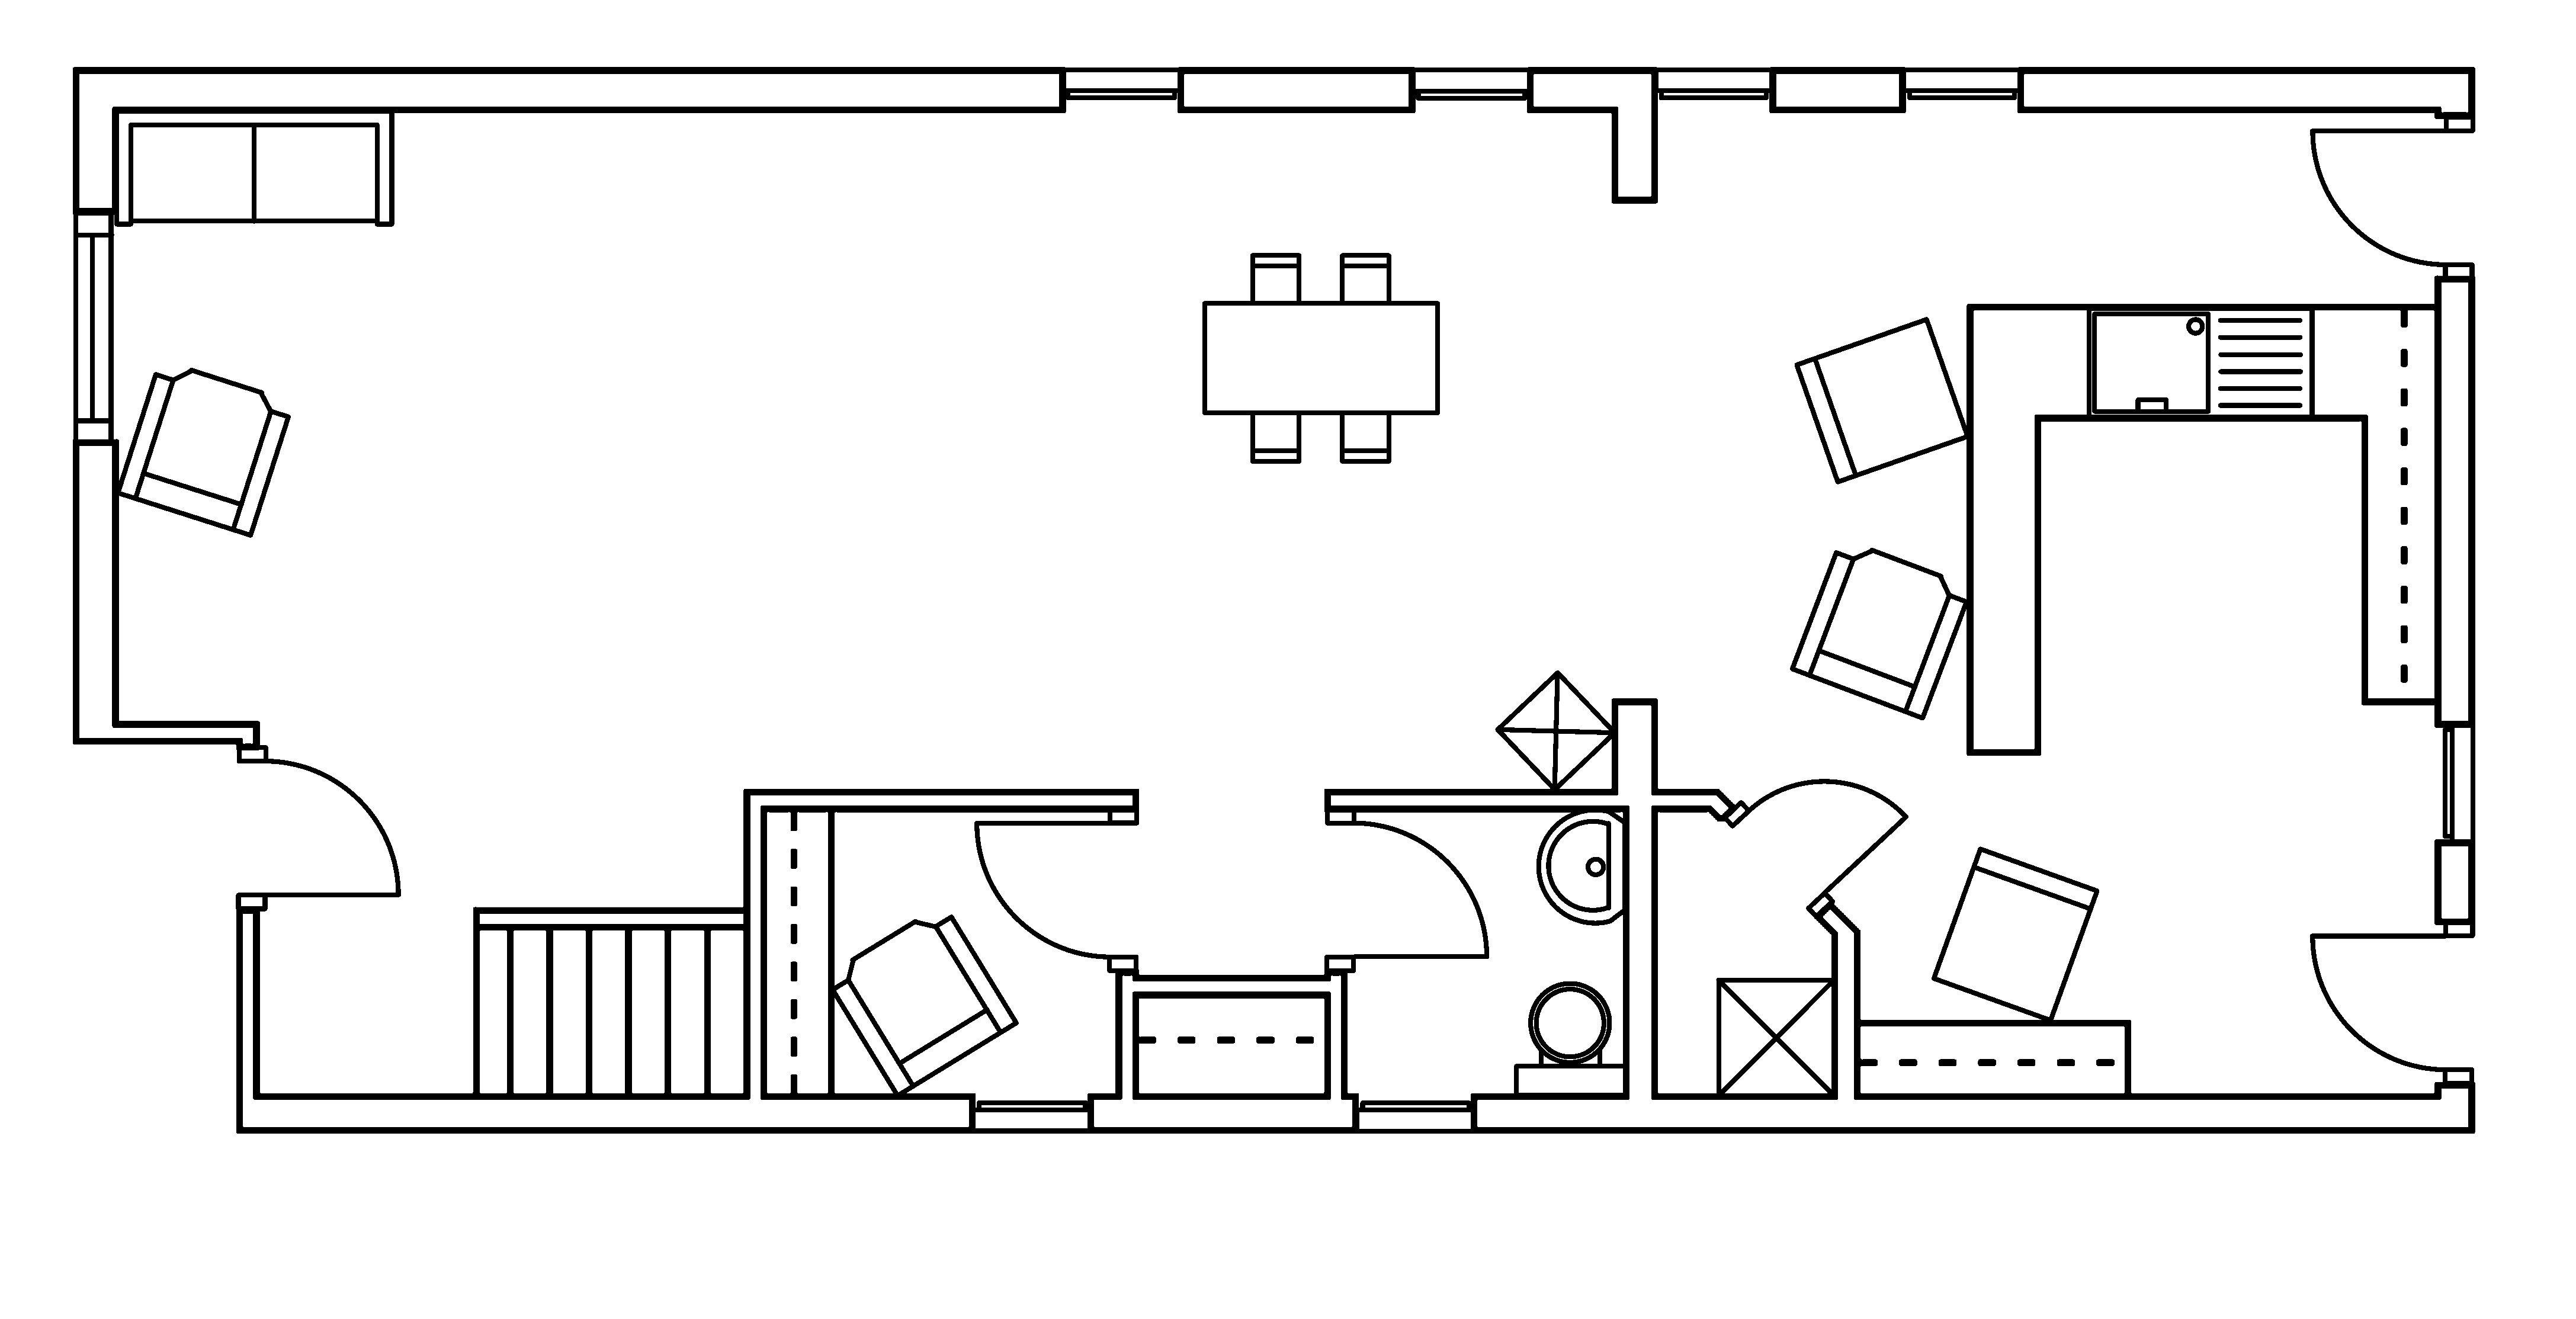armchair: (829, 914, 1019, 1099), (1789, 547, 1969, 720), (114, 367, 291, 538)
coffee_table: (1493, 670, 1618, 792), (1715, 976, 1836, 1099)
dining_table: (1201, 252, 1439, 464)
large_sink: (1513, 981, 1628, 1097)
large_sofa: (113, 108, 395, 227)
sink: (2085, 305, 2314, 421)
small_sink: (1535, 808, 1628, 925)
small_sofa: (1792, 316, 1971, 485), (1930, 845, 2098, 1023)
